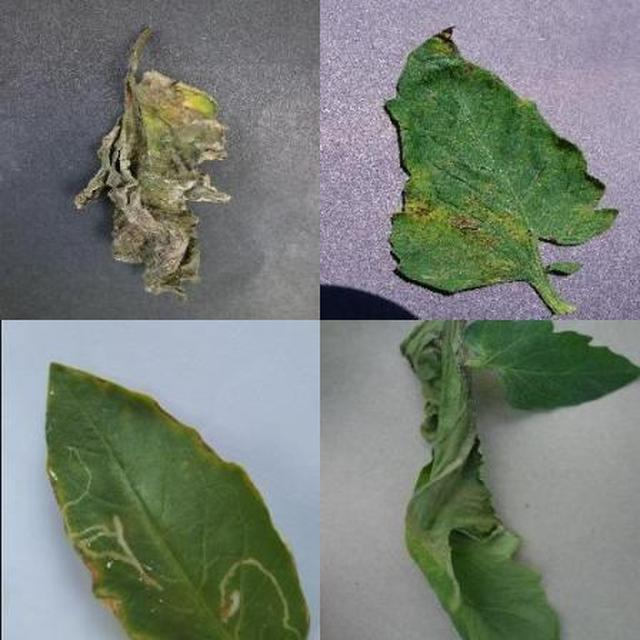Late Blight Leaf: (216, 137, 640, 640)
